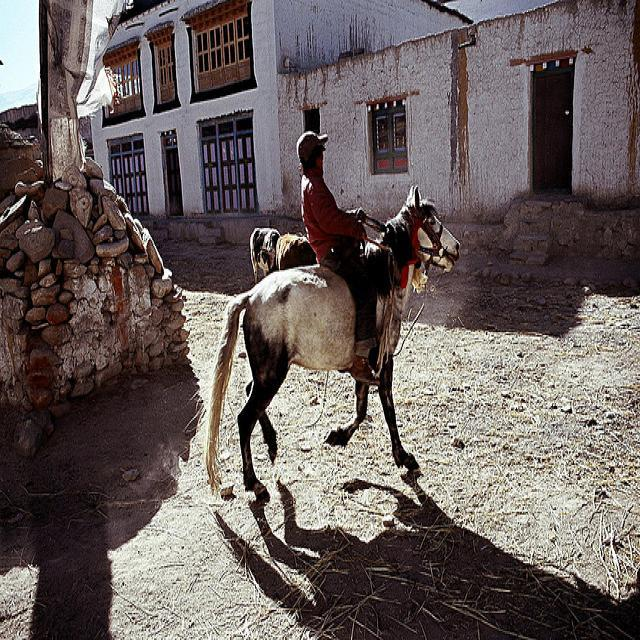cow: (248, 226, 278, 284), (273, 231, 317, 267)
